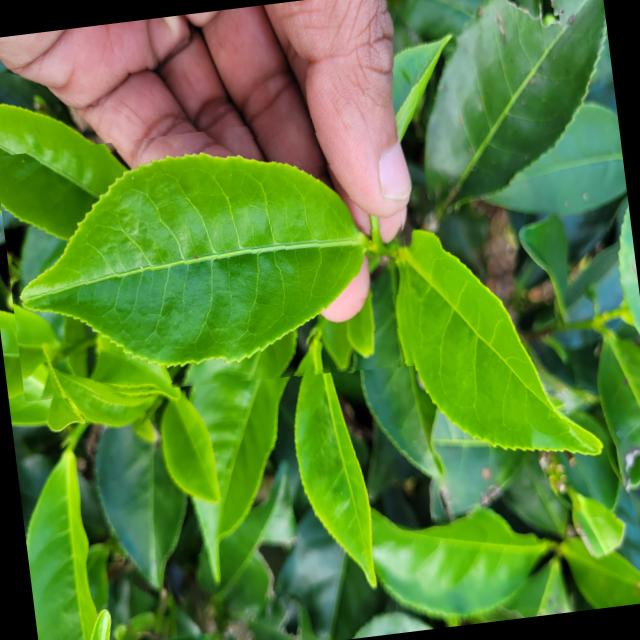Category B(2-4 days): (0, 108, 421, 413)
